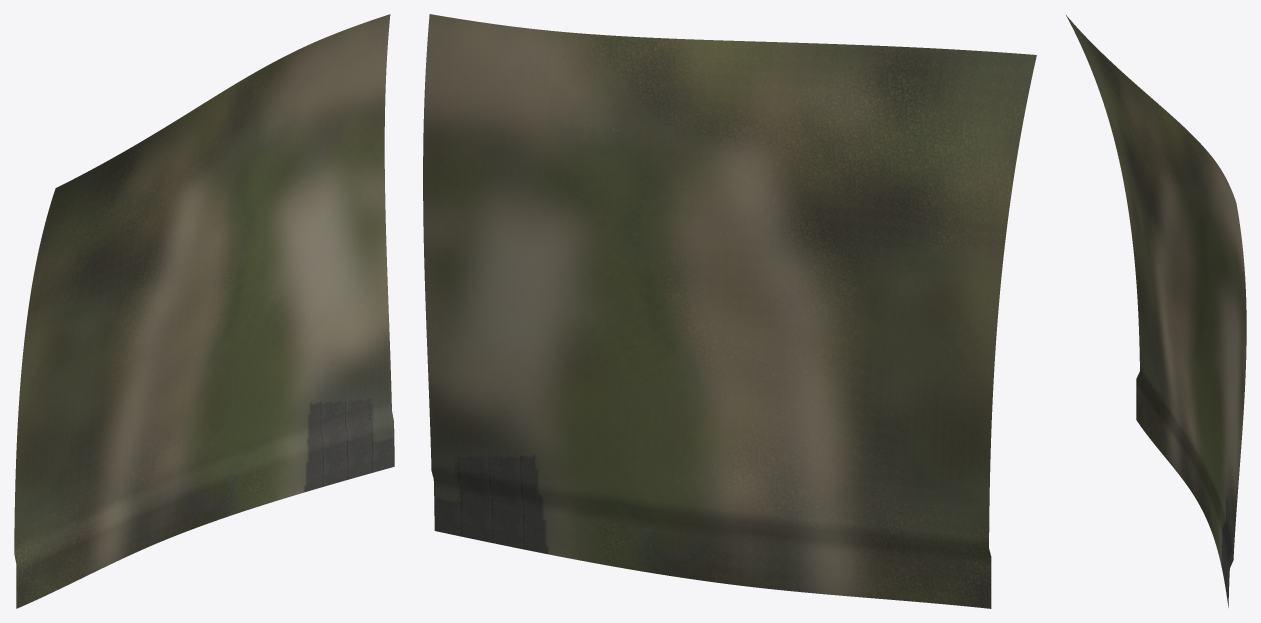
Rendered from ground_core_03_06.obj.
The picture shows the model from 3 angles, left to right: view 1: azimuth 30°, elevation 25°; view 2: azimuth 150°, elevation 25°; view 3: azimuth 270°, elevation 25°; orthographic projection. The views are drawn at different scales.
Visible parts, largest first — view 1: ground_core_03_06; view 2: ground_core_03_06; view 3: ground_core_03_06.
Boxes of the visible parts, x1,y1,x2,y2 form: ground_core_03_06: [14, 14, 394, 608]; ground_core_03_06: [423, 14, 1036, 608]; ground_core_03_06: [1066, 15, 1246, 607].
Bounding box in the file's own units: 50 × 50 × 20.25.
1 material, 1 textured.
